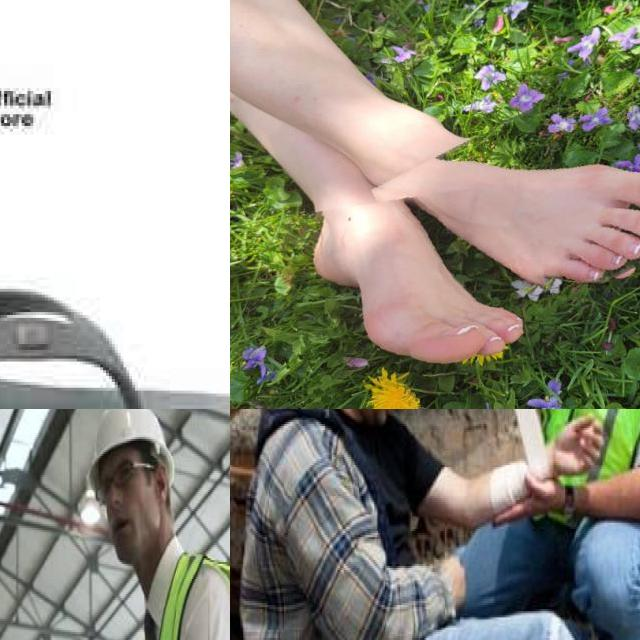Barefoots: (297, 169, 532, 384), (394, 99, 640, 296)
Sandals: (0, 224, 230, 409)
face_nomask: (99, 454, 156, 566)
glasses: (91, 457, 138, 508)
hand_noglove: (554, 416, 614, 484), (499, 480, 564, 537)
head_helmet: (91, 409, 174, 484)
person: (237, 409, 449, 640), (81, 409, 230, 640), (477, 409, 640, 609)
vest: (535, 409, 640, 537)
